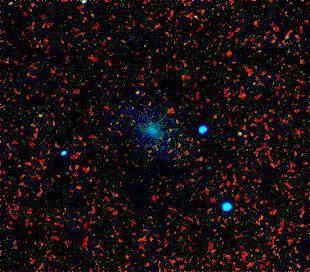star: (126, 77, 156, 107)
